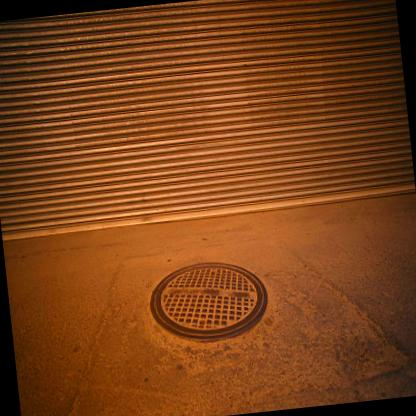manholes: (135, 235, 277, 356)
